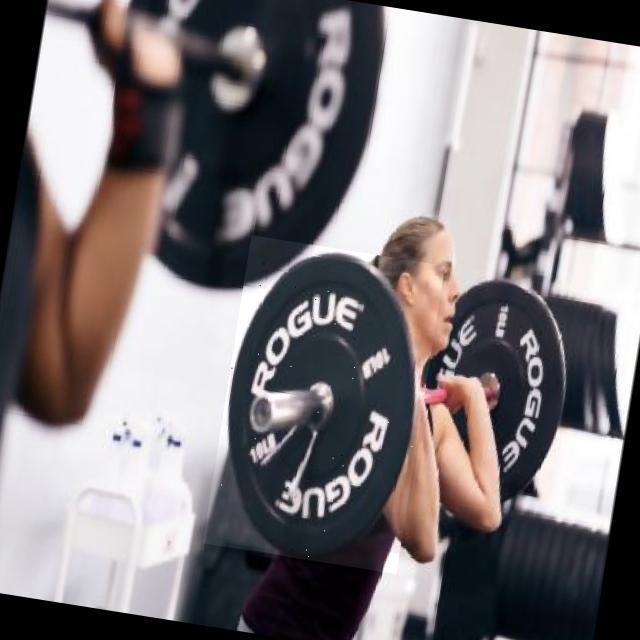barbell: (203, 237, 446, 578)
